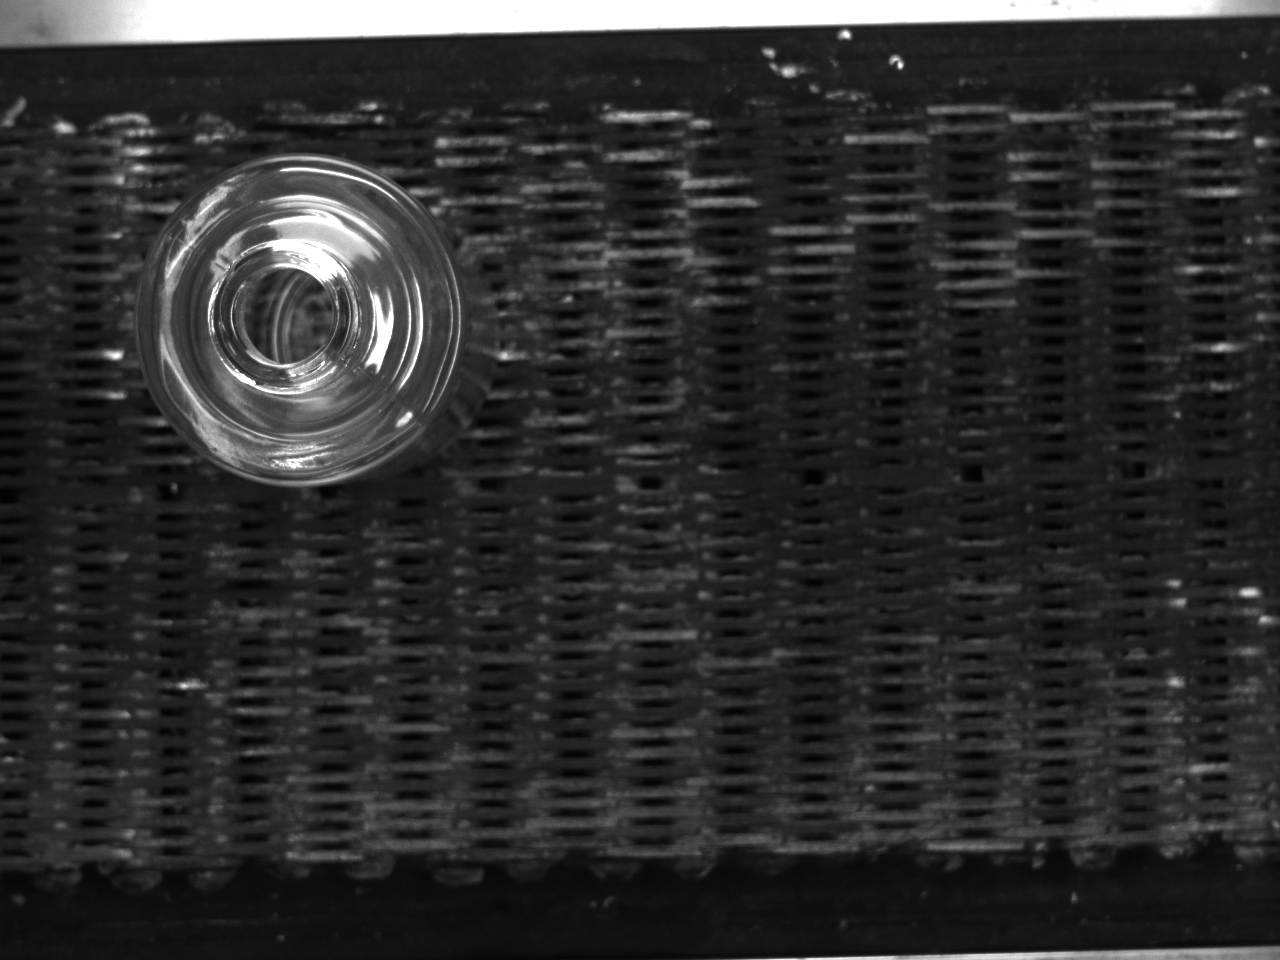bottleneck: (210, 237, 363, 395)
